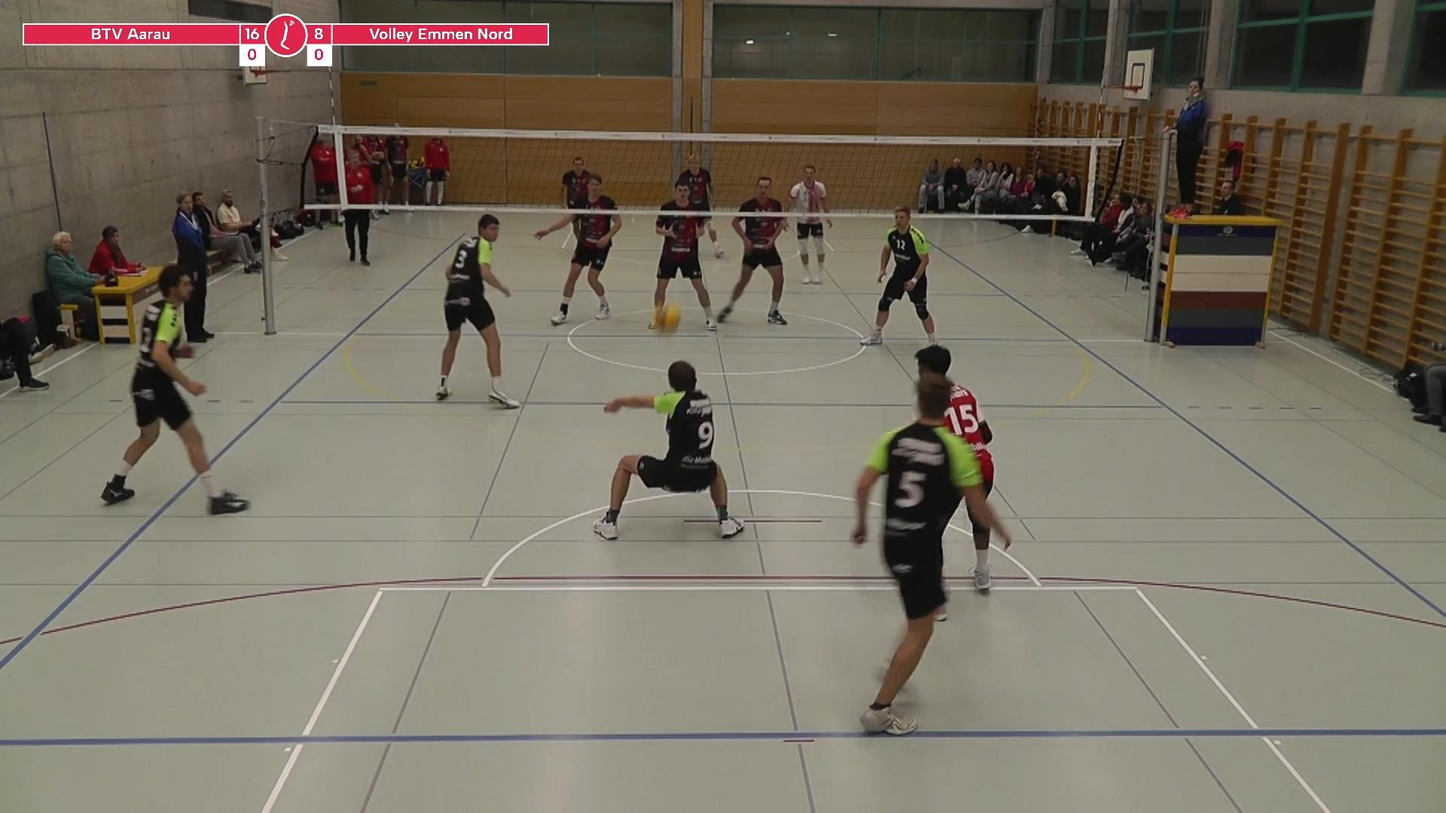ricezione: (595, 349, 751, 543)
